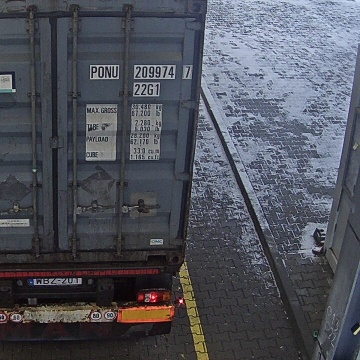serial_id: (91, 66, 191, 78)
